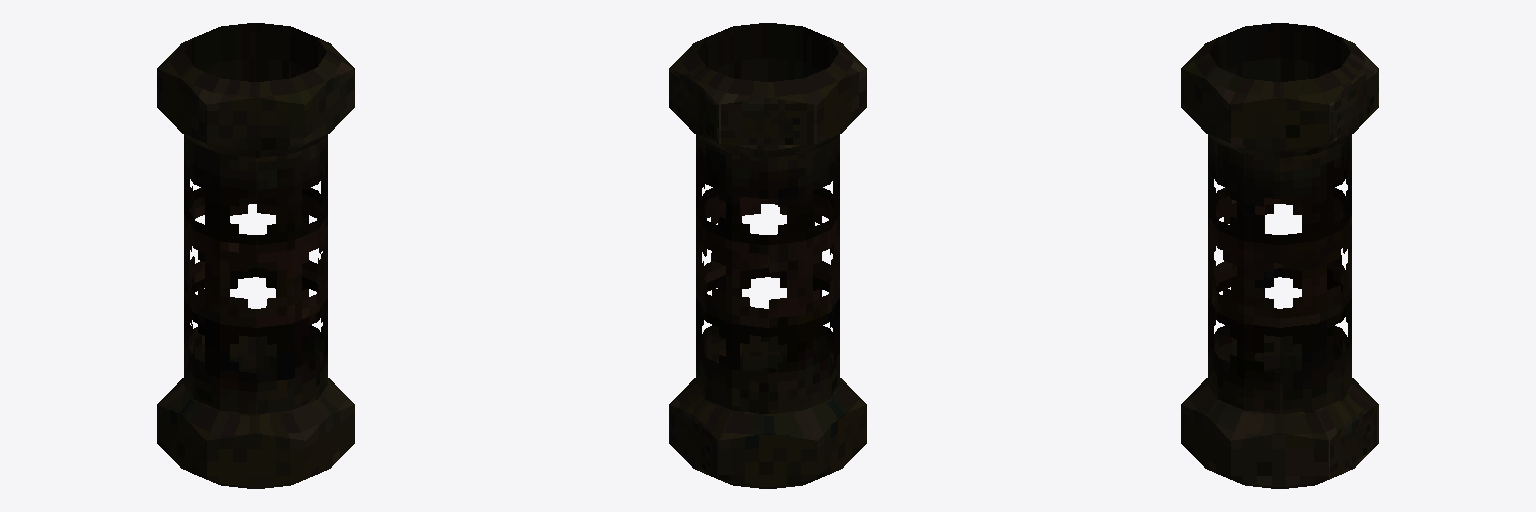
The picture shows the model from 3 angles: view 1: azimuth 30°, elevation 25°; view 2: azimuth 150°, elevation 25°; view 3: azimuth 270°, elevation 25°; orthographic projection.
Parts seen in each view (by area): view 1: mtl_weapon_m84_burnt; view 2: mtl_weapon_m84_burnt; view 3: mtl_weapon_m84_burnt.
Boxes of the visible parts, x1=… form: mtl_weapon_m84_burnt: x1=157, y1=23, x2=354, y2=488; mtl_weapon_m84_burnt: x1=669, y1=23, x2=866, y2=488; mtl_weapon_m84_burnt: x1=1181, y1=23, x2=1378, y2=488.
Size of the model in its own units: 6.11 by 16.02 by 7.06.
1 materials, 1 textured.